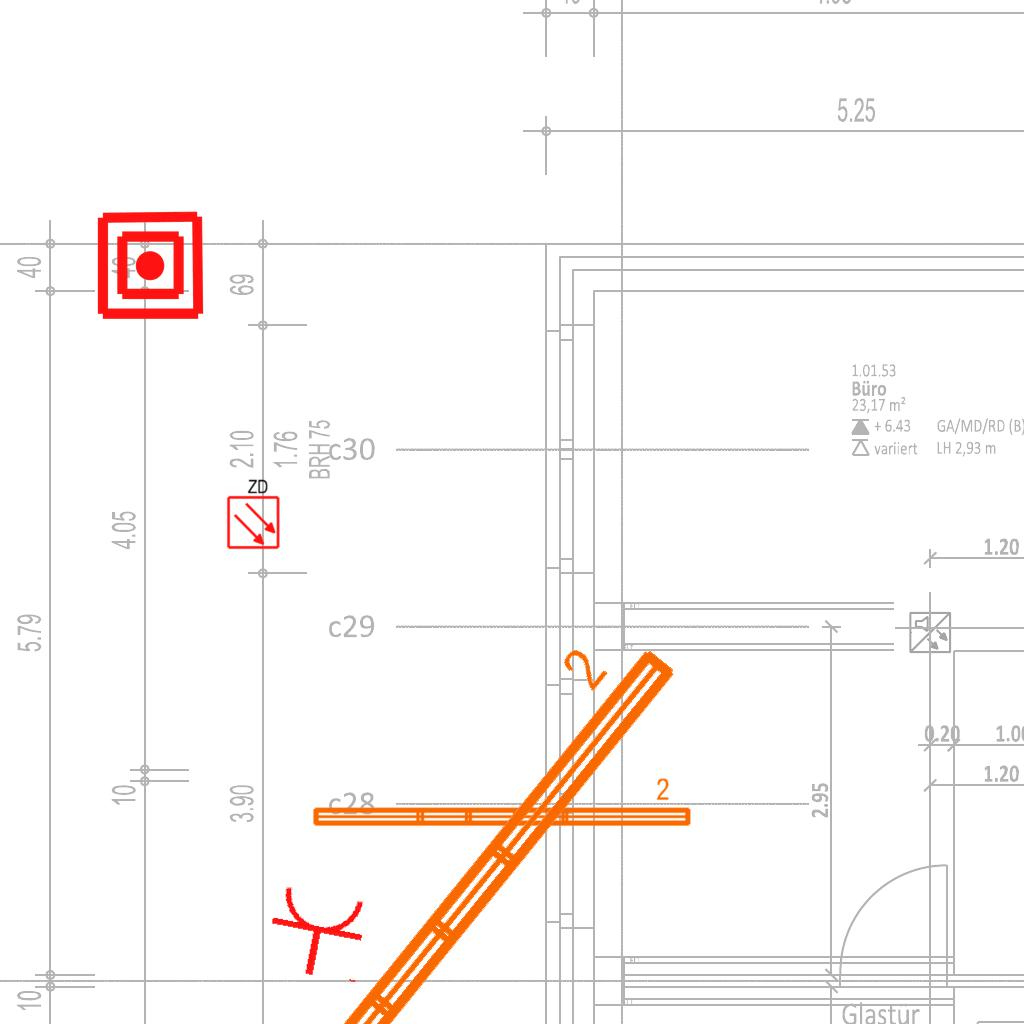Ambulanz_Pendelleuchte_LED: (116, 602, 692, 1024), (308, 776, 695, 832)
NAM-Nichtautomatischer_Melder: (94, 209, 207, 322)
Schukosteckdose_einfach: (261, 881, 376, 987)
ZD_Melder_in_Zwischendecke_mit_Revisionsoeffnung_mind_40_x_40_cm: (224, 476, 281, 550)
